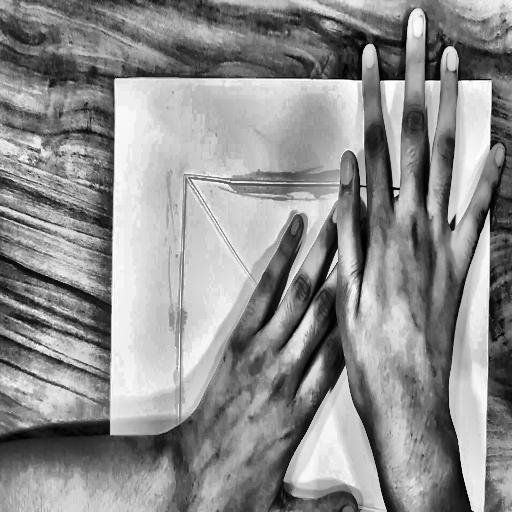envelop: (172, 169, 448, 512)
top_left: (113, 75, 118, 84)
top_right: (489, 77, 494, 86)
